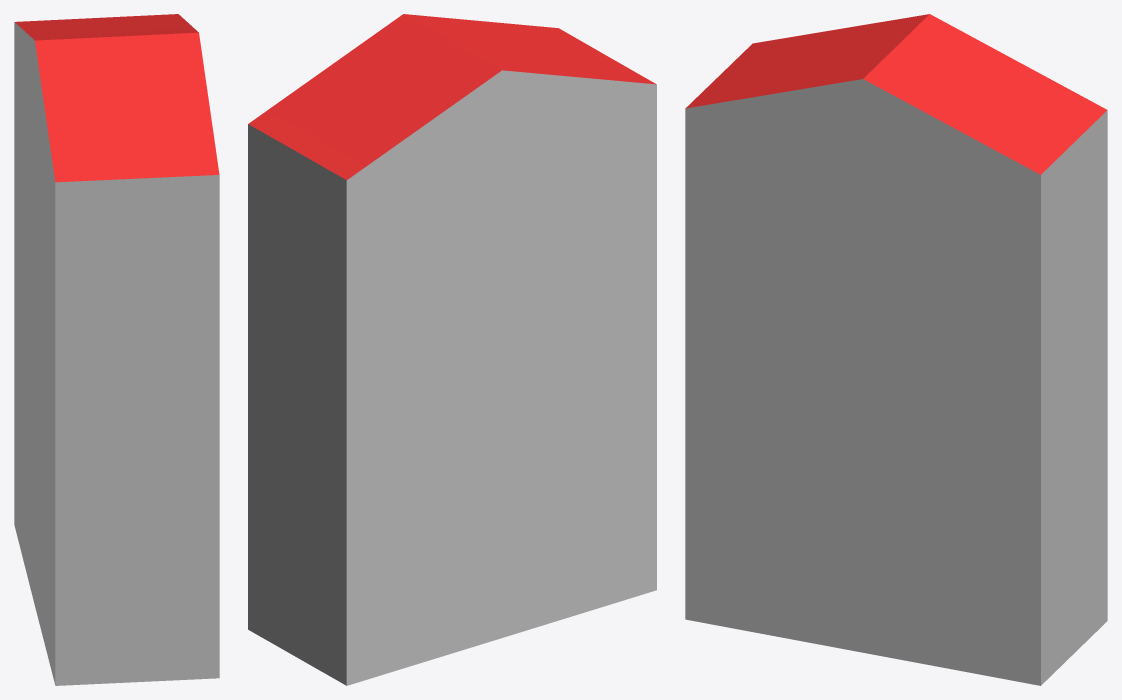
File: DEBY_LOD2_4959321.dae
The picture shows the model from 3 angles, left to right: view 1: azimuth 30°, elevation 25°; view 2: azimuth 150°, elevation 25°; view 3: azimuth 270°, elevation 25°; orthographic projection.
Size of the model in its own units: 10.75 by 14.61 by 21.91.
